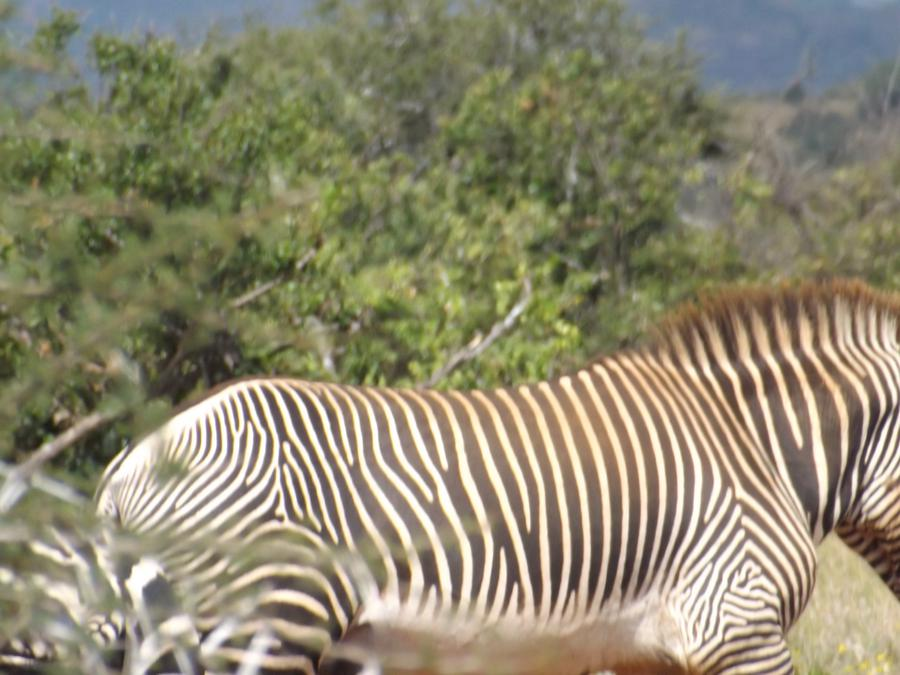zebra_grevys: (88, 353, 800, 640)
